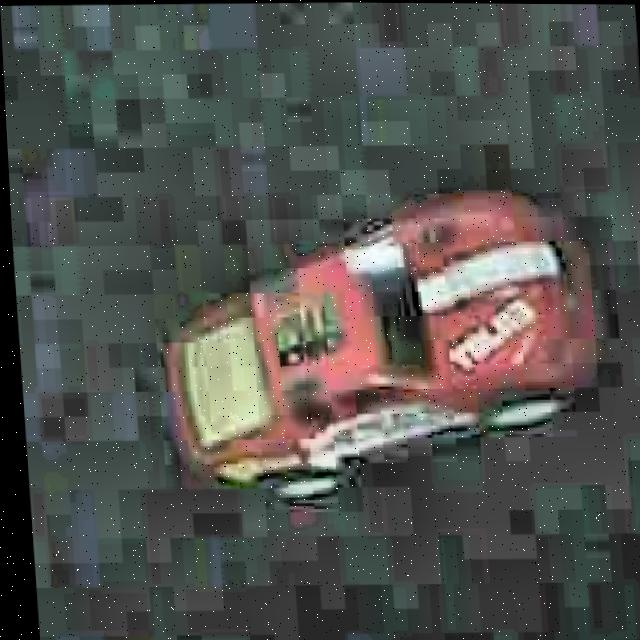car: (139, 174, 620, 512)
